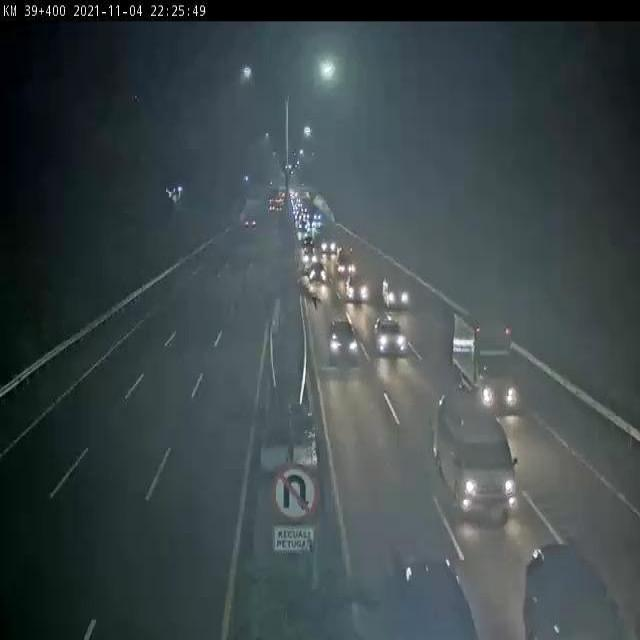car: (425, 389, 516, 527), (513, 544, 630, 640), (383, 557, 485, 640), (326, 309, 365, 382), (373, 314, 407, 369), (381, 272, 416, 319), (339, 277, 372, 315), (309, 268, 334, 315)
truck-s-: (449, 310, 521, 422)
